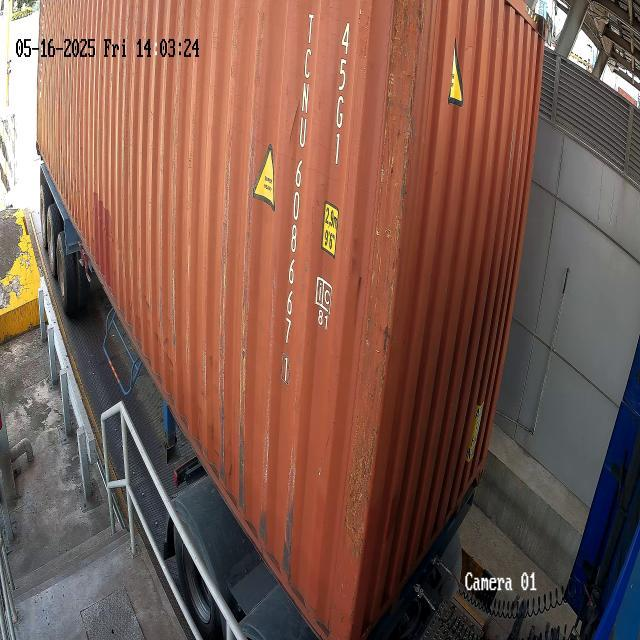ISO: (330, 12, 354, 176)
container_number: (272, 0, 318, 391)
